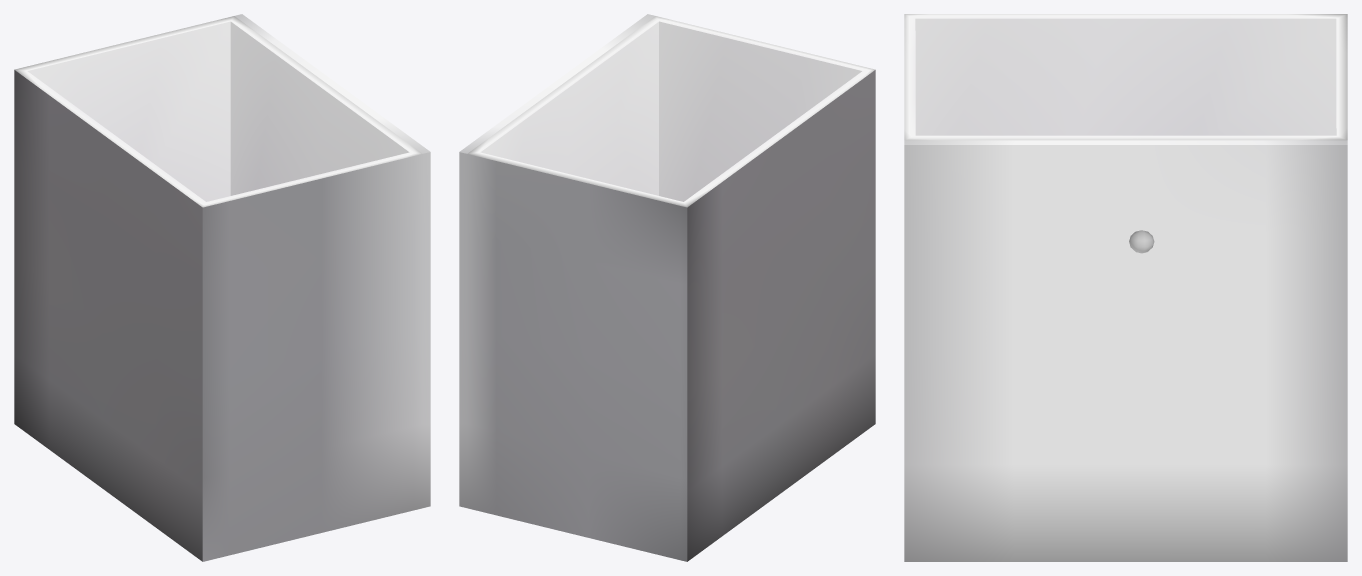
Rendered from chestOfDrawers_DrawerMid.glb.
The picture shows the model from 3 angles, left to right: view 1: azimuth 30°, elevation 25°; view 2: azimuth 150°, elevation 25°; view 3: azimuth 270°, elevation 25°; orthographic projection. The views are drawn at different scales.
Parts seen in each view (by area): view 1: RC_Furn_Dresser_Drawer3.001; view 2: RC_Furn_Dresser_Drawer3.001; view 3: RC_Furn_Dresser_Drawer3.001.
Boxes of the visible parts, bbox=[...] form: RC_Furn_Dresser_Drawer3.001: bbox=[14, 14, 430, 561]; RC_Furn_Dresser_Drawer3.001: bbox=[459, 14, 875, 561]; RC_Furn_Dresser_Drawer3.001: bbox=[904, 14, 1347, 561].
Bounding box in the file's own units: 0.7216 × 1.03 × 0.9953.
Materials: 1 (1 with a texture image).
